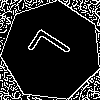L: (26, 26, 81, 75)
